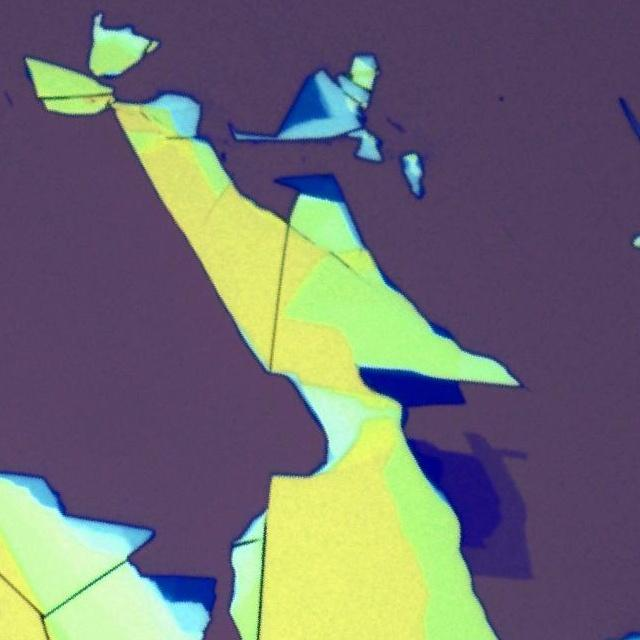monolayer-eWW4: (454, 428, 536, 583)
